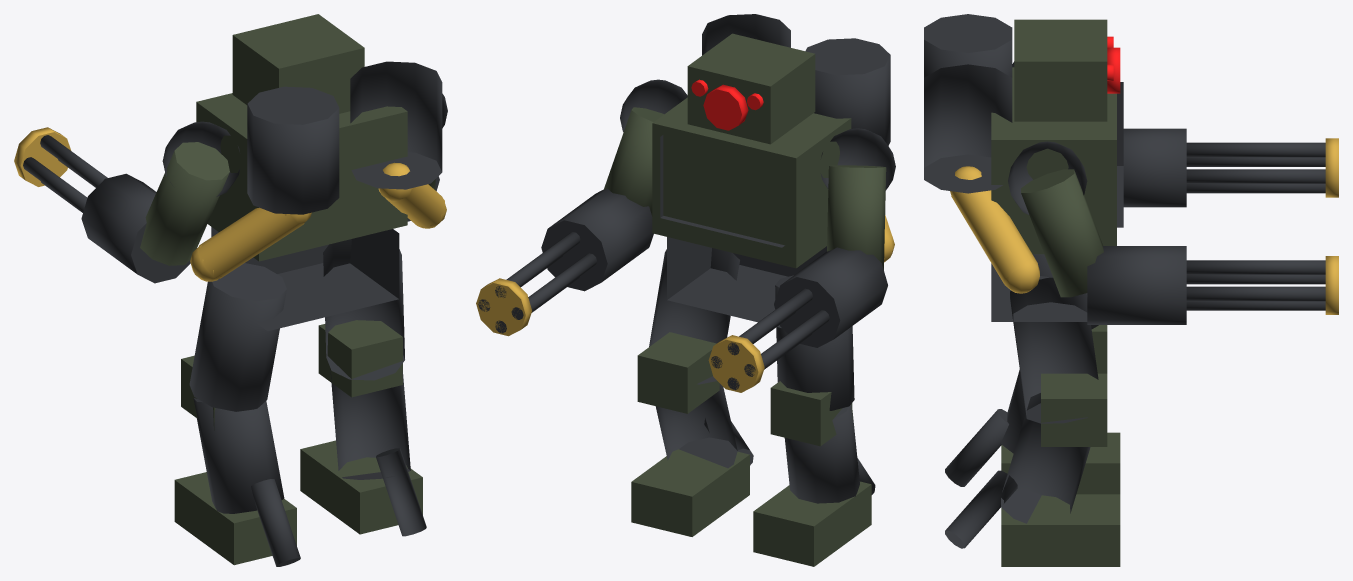
The model's file is Robot_Gunner.obj.
3 renders of one model, left to right at view 1: azimuth 30°, elevation 25°; view 2: azimuth 150°, elevation 25°; view 3: azimuth 270°, elevation 25°, orthographic. The views are drawn at different scales.
Parts seen in each view (by area): view 1: Robot_Gunner; view 2: Robot_Gunner; view 3: Robot_Gunner.
Part boxes in pixels (x1,y1,x2,y2): Robot_Gunner: (14, 14, 447, 566); Robot_Gunner: (476, 14, 895, 566); Robot_Gunner: (924, 14, 1338, 566).
Bounding box in the file's own units: 1.08 × 1.6 × 1.25.
